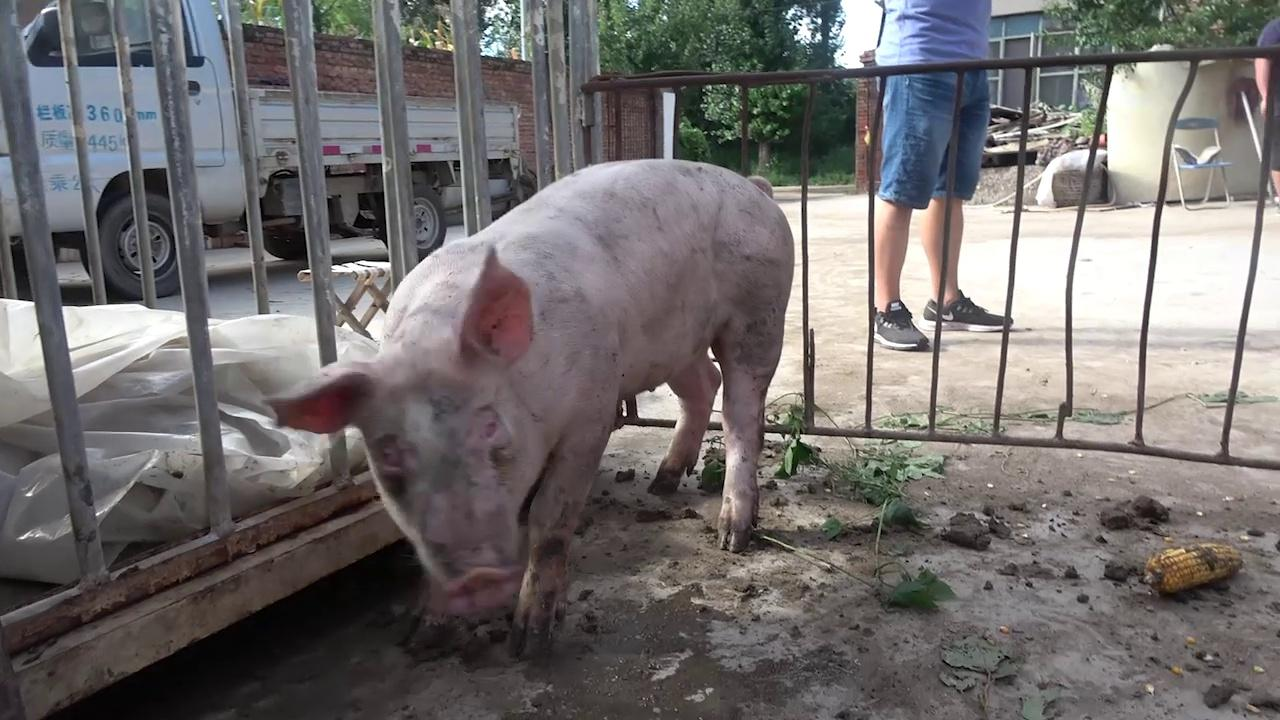Face: (276, 245, 553, 621)
